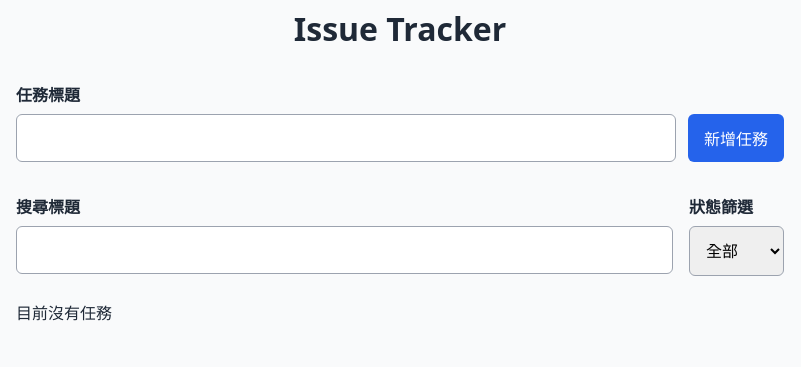
it: App › 新增去除前後空白的任務並清空輸入欄位
In the field labelled "任務標題": (346, 138) [16,114,676,162], type "  修正登入頁面  "
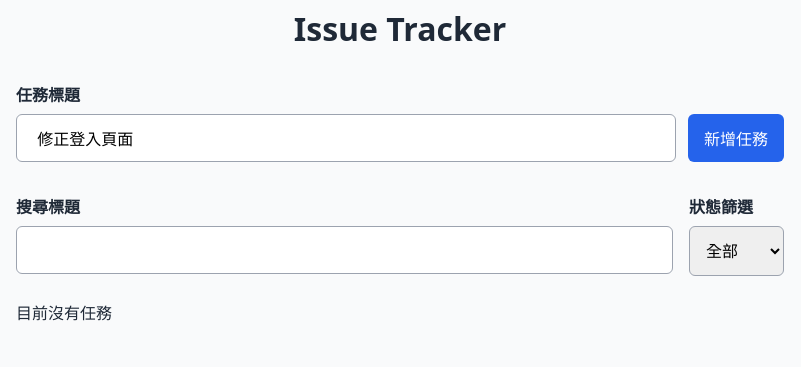
Click the button "新增任務": (736, 138) [688,114,784,162]
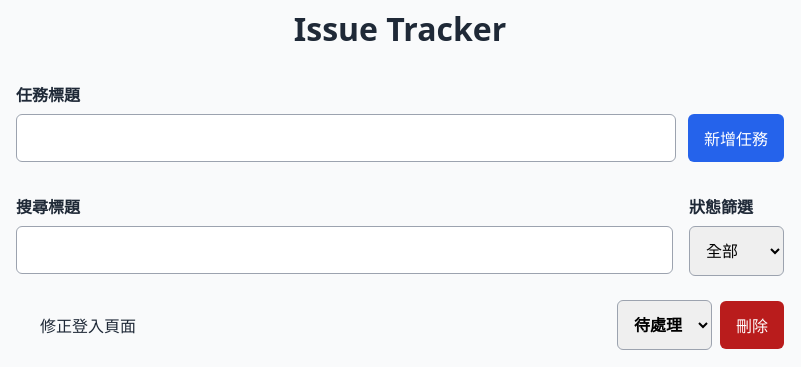
Check: the list named "任務清單" is shown, box [16,300,784,350]
Check: the list item shows "修正登入頁面", box [40,315,136,337]
Check: the text "目前沒有任務" is gone
